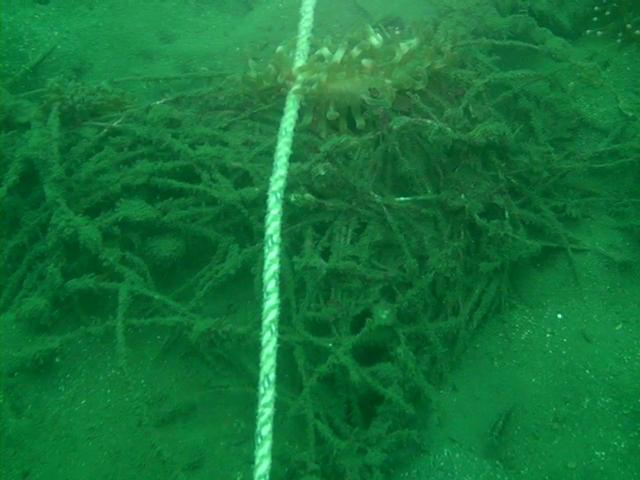rope: (253, 0, 316, 480)
